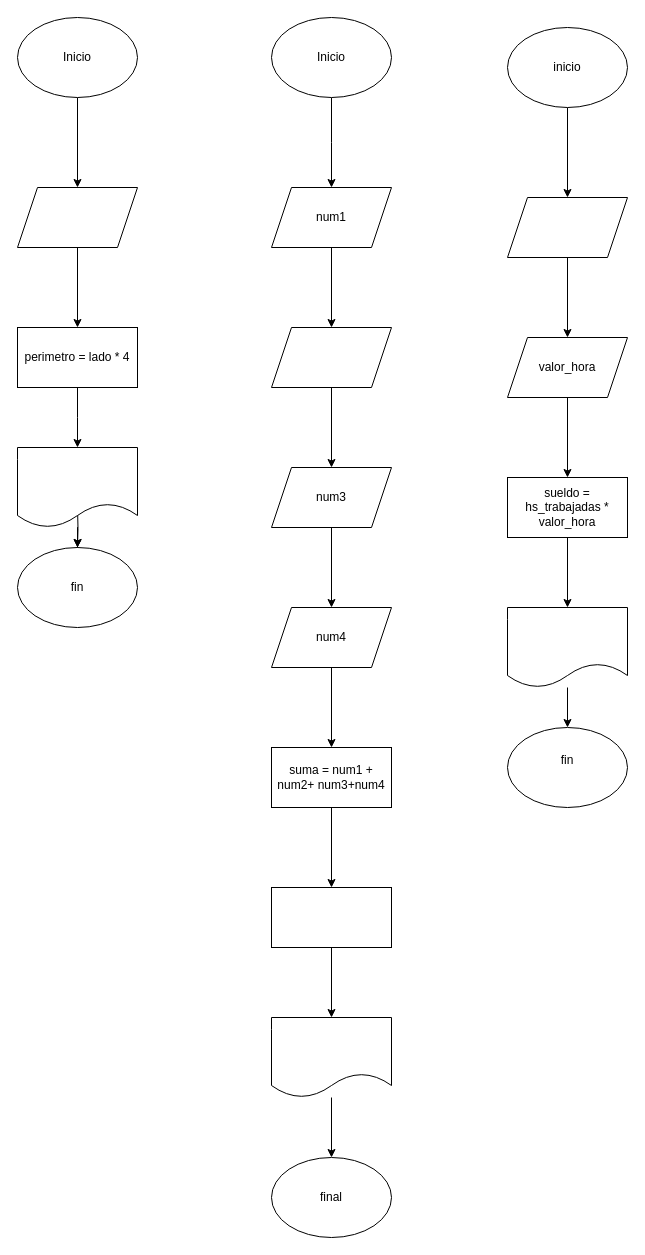
The diagram is 645 pixels wide and 1255 high, and some of its shapes have lost their labels. The shapes that lost their labels are listed below. From the top down, each one's box as (x1, y1, x2, y2) in pixels, then its label:
(16, 186, 138, 248): lado
(506, 196, 628, 258): hs_trabajadas
(270, 326, 392, 388): num2
(16, 446, 138, 528): perimetro
(506, 606, 628, 688): sueldo
(270, 886, 392, 948): promedio = suma/4
(270, 1016, 392, 1098): suma, promedio
